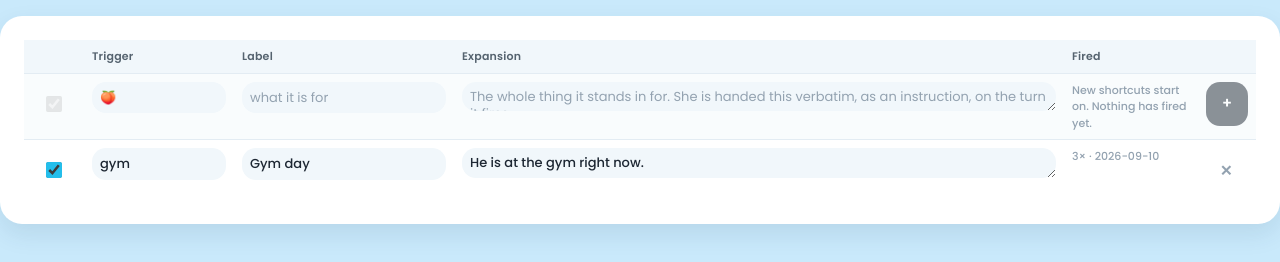
Scenario: ShortcutTable — existing rows › brings a refused delete back with its error line
This screenshot has width=1280, height=262.
Click the button named "Delete the gym shortcut" at point(1226, 170), box [1204,148,1248,192]
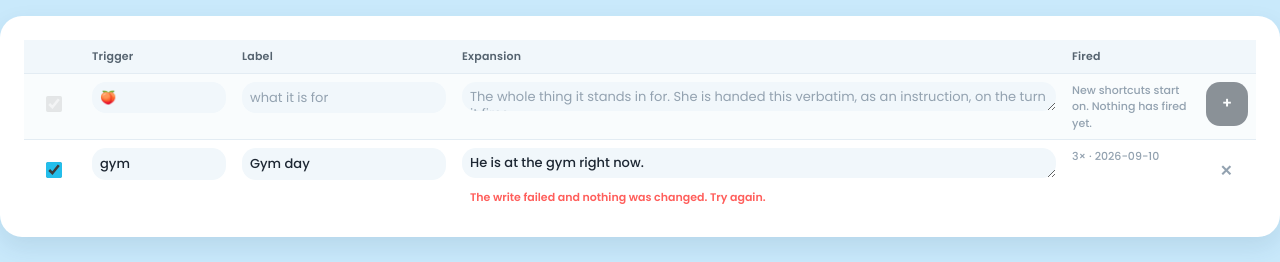
Expected: the field showing "gym" is shown, [92,148,226,180]
Now the text "The write failed and nothing was changed. Try again." is shown, box [470,189,766,205]
